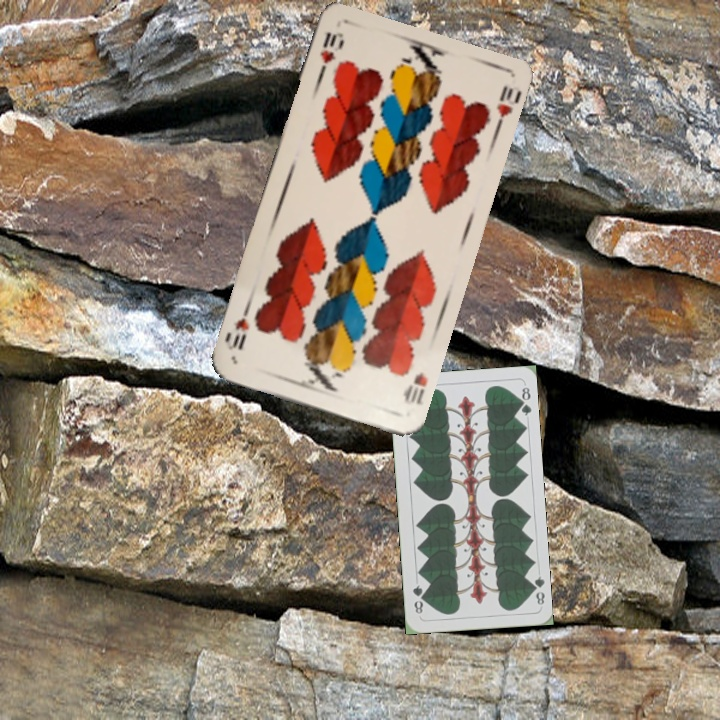G8: (526, 572, 547, 607)
H10: (313, 28, 345, 83), (399, 367, 431, 408)
